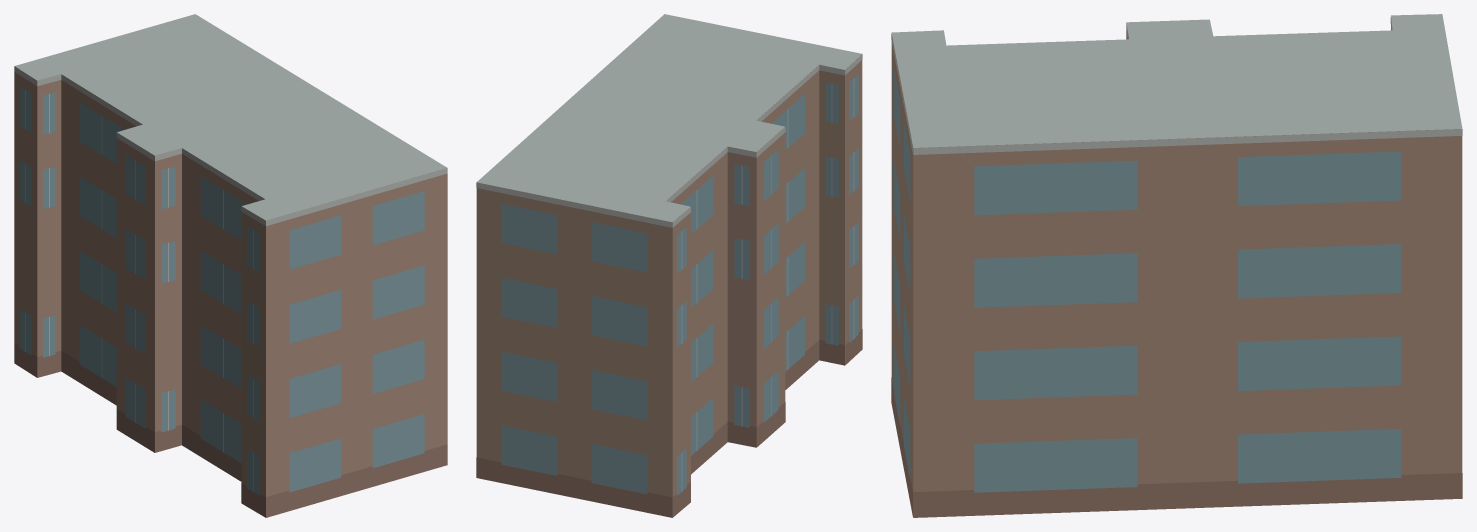
File: survey-upis-32908546.glb
3 views of the same model, side by side, from view 1: azimuth 30°, elevation 25°; view 2: azimuth 150°, elevation 25°; view 3: azimuth 270°, elevation 25° (orthographic). The views are drawn at different scales.
Parts seen in each view (by area): view 1: survey-upis-32908546.tmp; view 2: survey-upis-32908546.tmp; view 3: survey-upis-32908546.tmp.
Part boxes in pixels (x1=…): survey-upis-32908546.tmp: x1=14, y1=14, x2=447, y2=517; survey-upis-32908546.tmp: x1=476, y1=14, x2=862, y2=517; survey-upis-32908546.tmp: x1=891, y1=14, x2=1462, y2=517.
Bounding box in the file's own units: 10.03 × 12.9 × 18.06.
